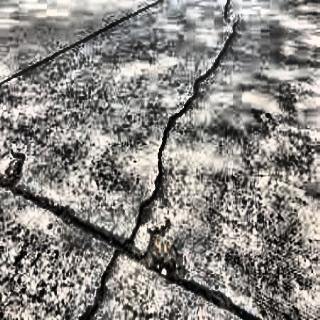crack: (138, 0, 240, 217), (1, 8, 135, 92), (31, 187, 120, 242), (192, 272, 270, 320), (75, 251, 123, 320), (125, 222, 138, 246)
pothole: (141, 222, 190, 282), (1, 150, 26, 192)
